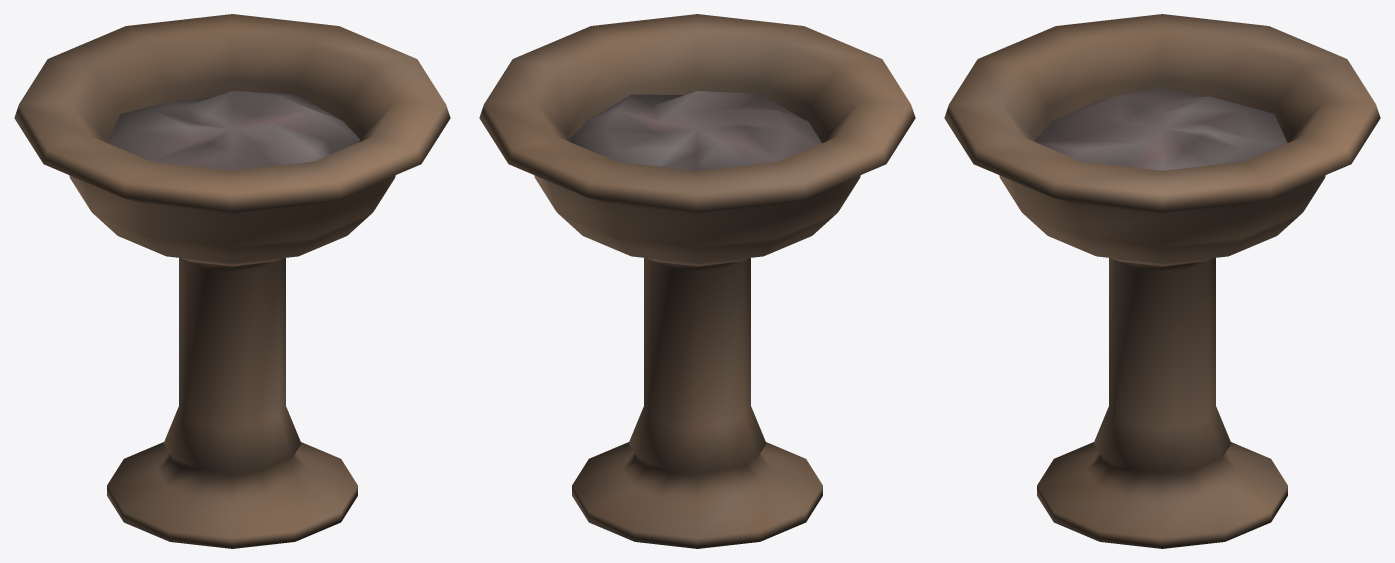
The model's file is furnishings-lightsources-terracottabrazier_v1.glb.
The picture shows the model from 3 angles, left to right: view 1: azimuth 30°, elevation 25°; view 2: azimuth 150°, elevation 25°; view 3: azimuth 270°, elevation 25°; orthographic projection.
Parts seen in each view (by area): view 1: TerracottaBrazier.001; view 2: TerracottaBrazier.001; view 3: TerracottaBrazier.001.
Part boxes in pixels (x1=…): TerracottaBrazier.001: x1=14, y1=14, x2=450, y2=548; TerracottaBrazier.001: x1=479, y1=14, x2=915, y2=548; TerracottaBrazier.001: x1=944, y1=14, x2=1380, y2=548.
Bounding box in the file's own units: 0.8756 × 0.8719 × 0.8756.
